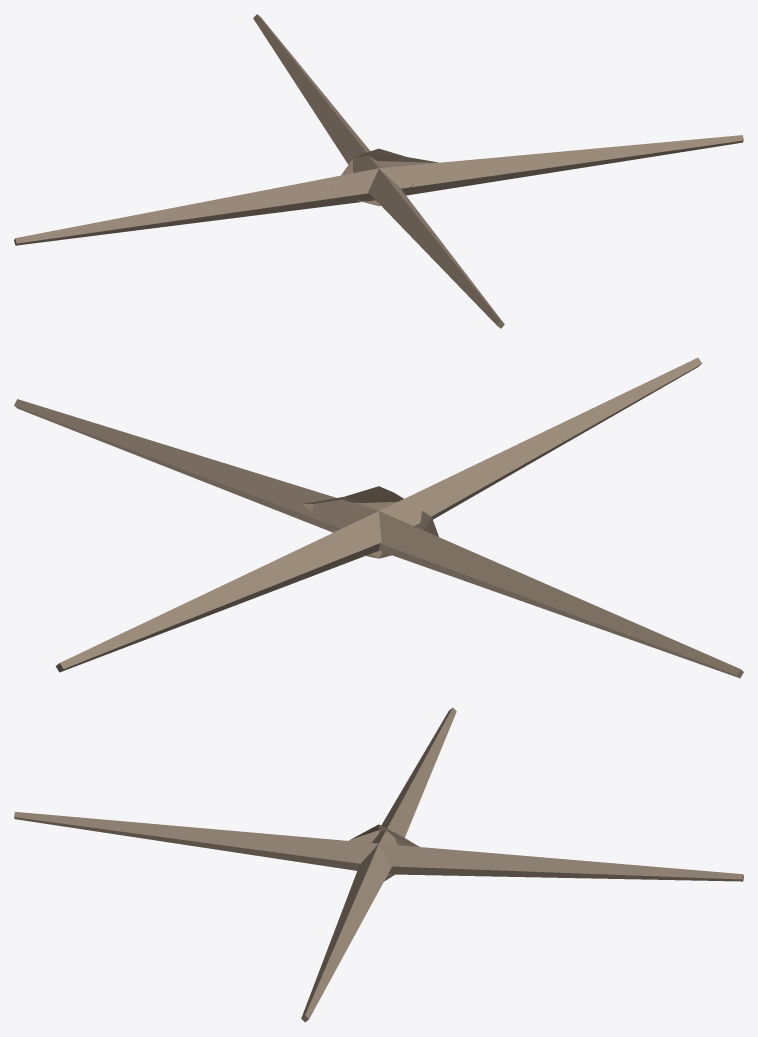
3 views of the same model, one above another, from view 1: azimuth 30°, elevation 25°; view 2: azimuth 150°, elevation 25°; view 3: azimuth 270°, elevation 25° (orthographic). The views are drawn at different scales.
Parts seen in each view (by area): view 1: lod0; view 2: lod0; view 3: lod0.
Boxes of the visible parts, x1=… form: lod0: x1=14, y1=14, x2=743, y2=328; lod0: x1=14, y1=358, x2=743, y2=678; lod0: x1=14, y1=707, x2=743, y2=1022.
Size of what is drawn, in the model's own units: 2.16 by 0.1826 by 2.16.
